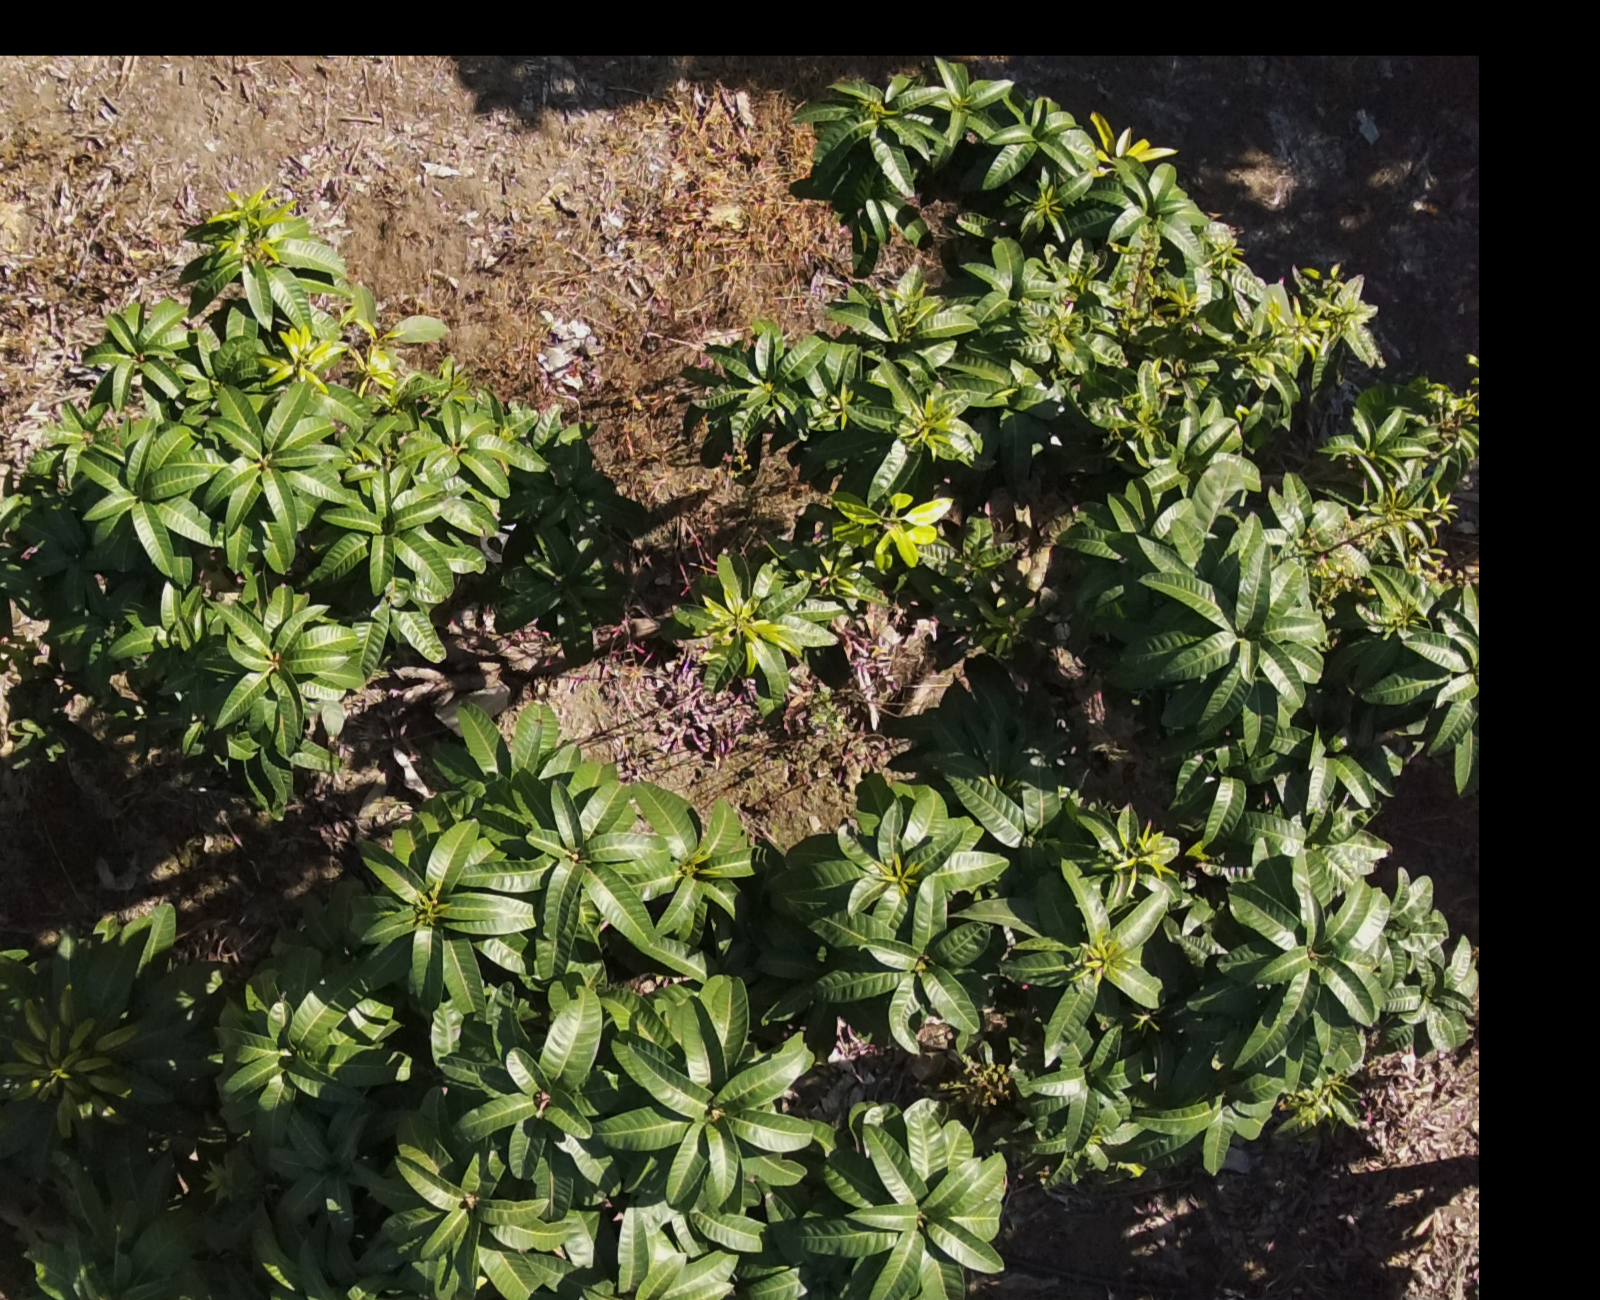flowers: (975, 220, 1378, 462), (1275, 382, 1478, 609), (939, 1060, 1011, 1110)
